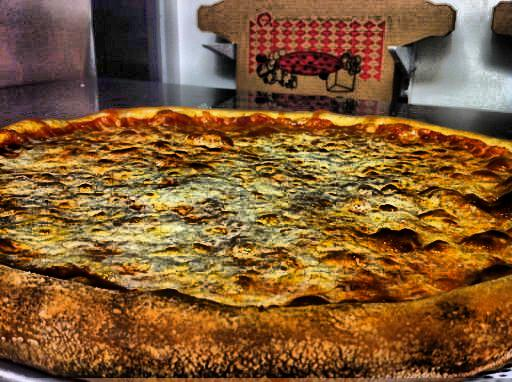pizza: (4, 116, 512, 378)
